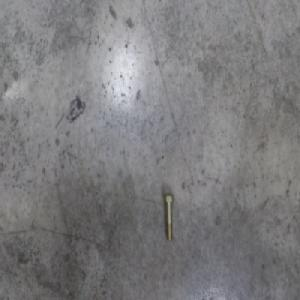Bolt: (162, 192, 174, 241)
